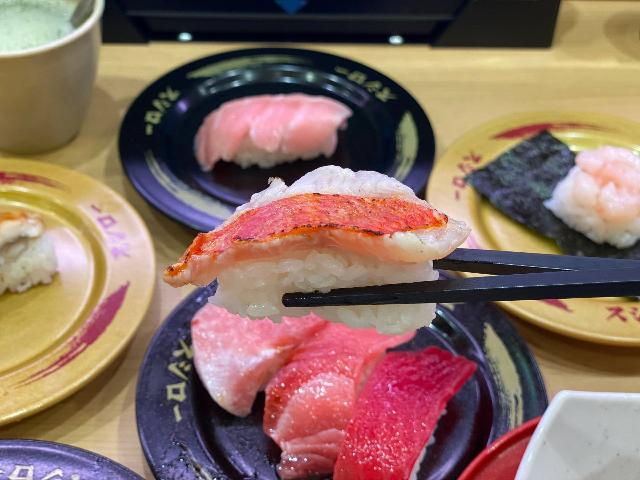janback: (118, 43, 415, 93), (463, 309, 553, 429), (112, 104, 193, 200), (141, 431, 274, 480), (0, 438, 150, 480), (358, 90, 435, 163), (141, 328, 191, 433)
jangold: (0, 152, 153, 431), (445, 150, 518, 253), (539, 293, 640, 343), (530, 102, 640, 144), (452, 103, 537, 143)
